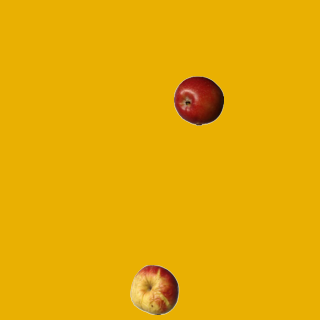Apple Braeburn: (173, 75, 223, 125)
Apple Red Yellow 1: (129, 264, 179, 314)
